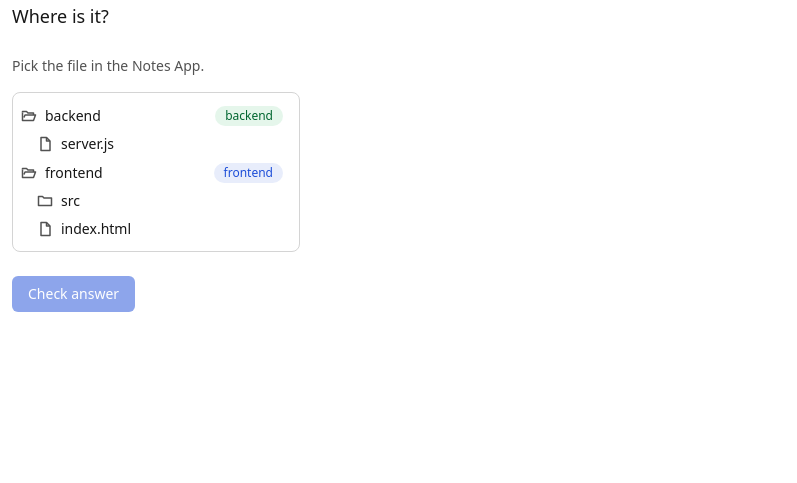
Test: FindInput › answers with the file picked in the tree
The width and height of the screenshot is (797, 483).
Click the list item "src".
click(58, 200)  # box [37,191,80,210]
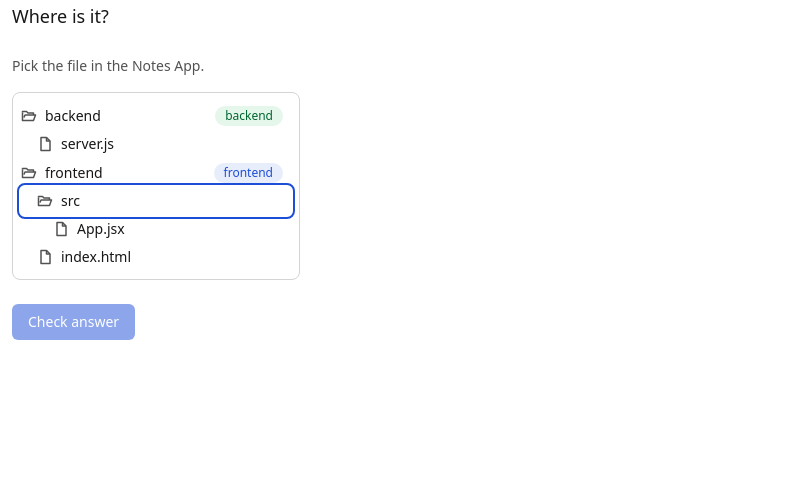
Expected: the button "Check answer" is disabled, [12,304,135,340]
Click the list item "App.jsx".
click(89, 228)  # box [53,219,125,238]
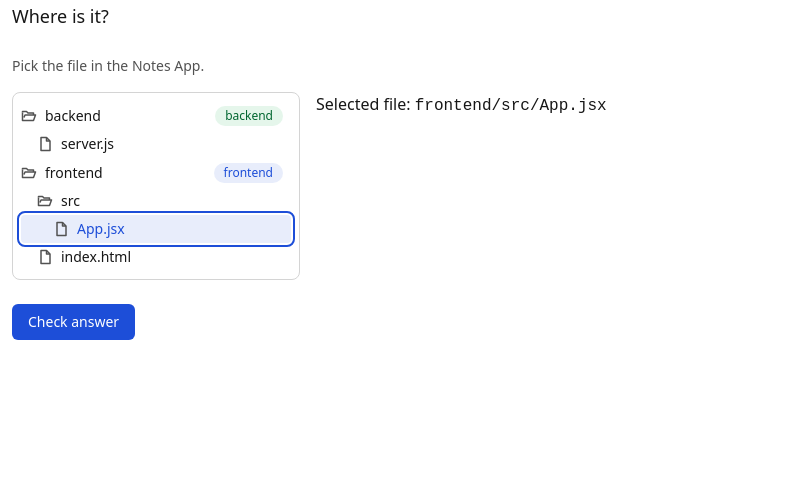
Now the text "frontend/src/App.jsx" is shown, box [415,97,607,115]
Click the button "Check answer".
click(74, 322)  # box [12,304,135,340]
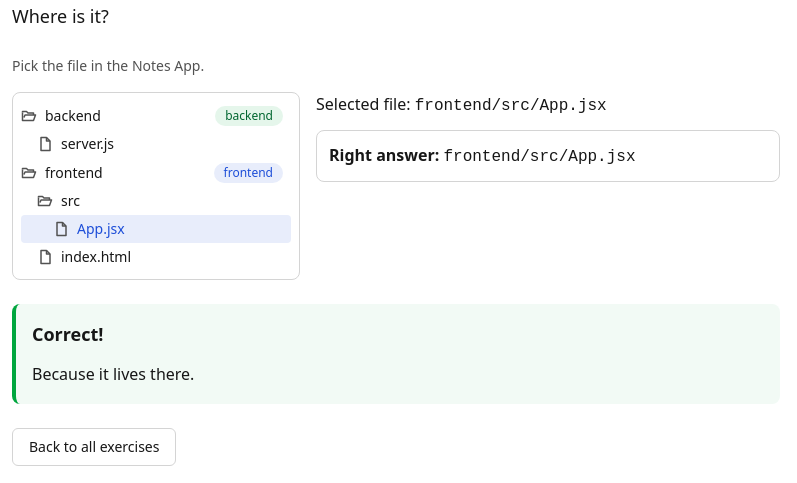
Now the heading "Correct!" is shown, box [32,322,104,346]
